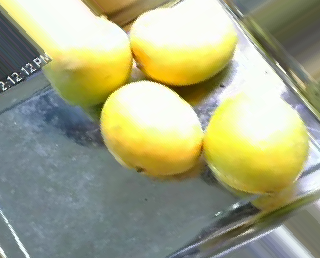Mango: (202, 92, 308, 196), (98, 81, 203, 171), (132, 11, 234, 85), (44, 18, 132, 103)
